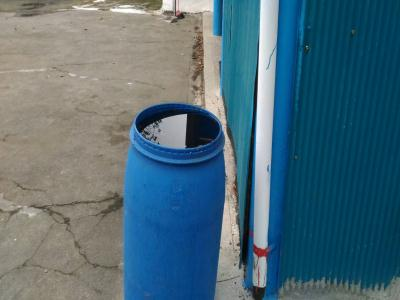bucket: (119, 100, 228, 300)
